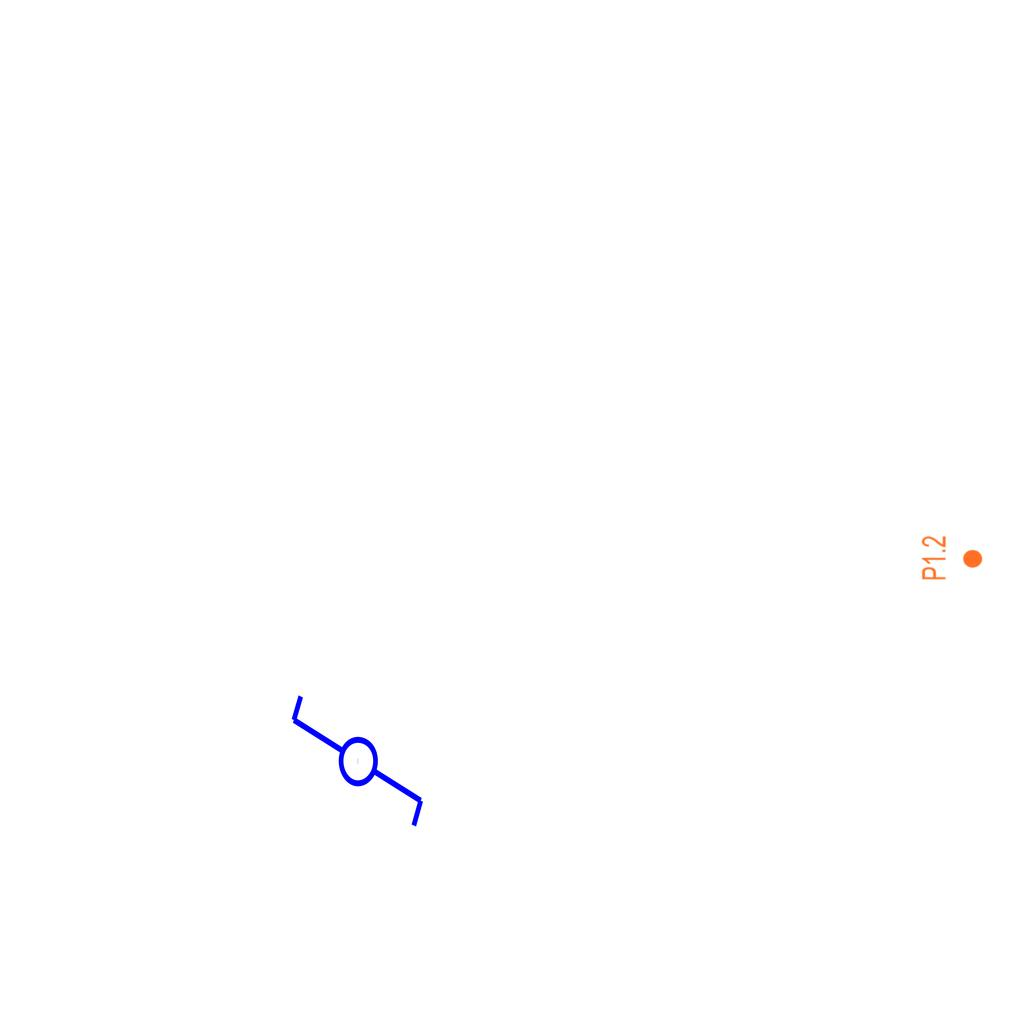Downlight_LED_Einbauleuchten_Flur: (920, 535, 984, 581)
Wechselschalter: (284, 691, 428, 848)
